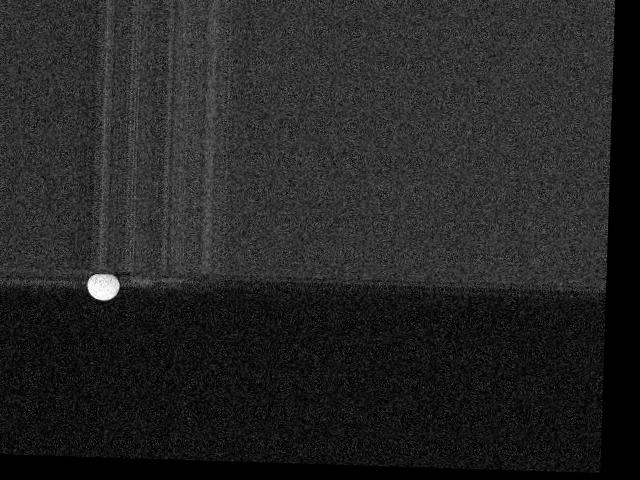egg: (87, 273, 120, 300)
